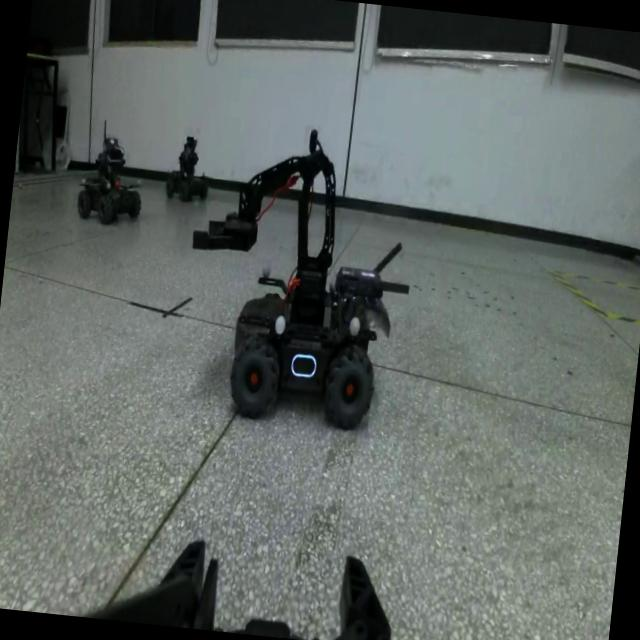ep: (173, 113, 426, 434)
s1: (73, 130, 147, 232), (163, 130, 214, 207)
